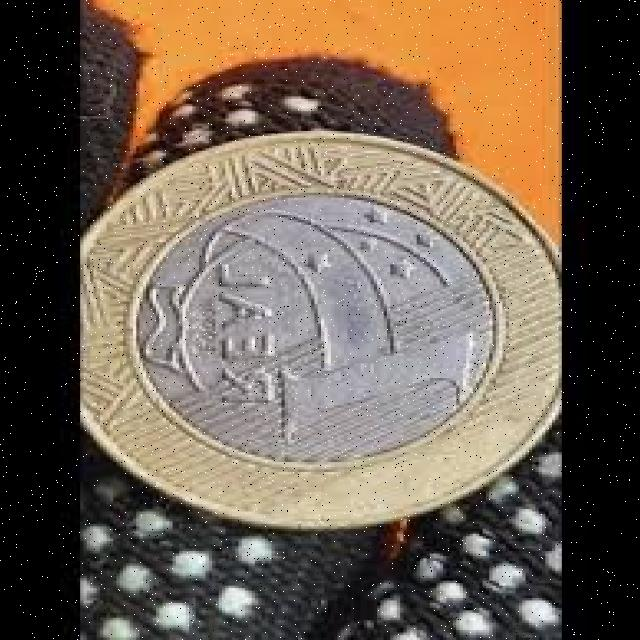1 real: (74, 133, 556, 518)
